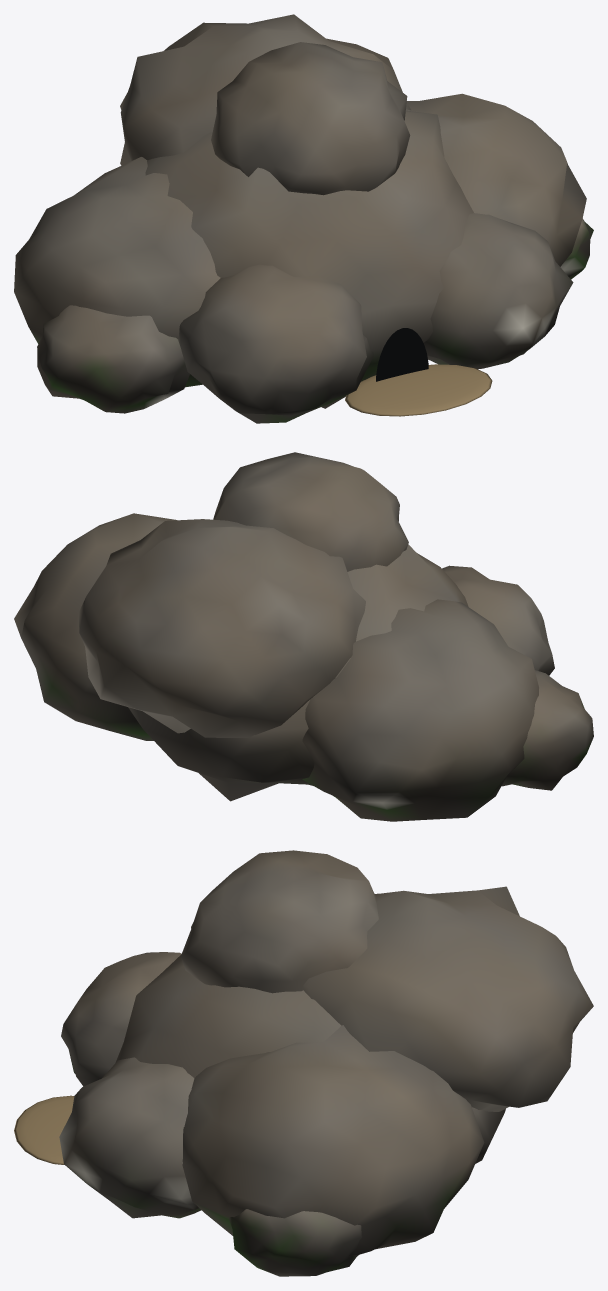
File: SeaCave.glb
3 renders of one model, top to bottom at view 1: azimuth 30°, elevation 25°; view 2: azimuth 150°, elevation 25°; view 3: azimuth 270°, elevation 25°, orthographic. The views are drawn at different scales.
Parts seen in each view (by area): view 1: Rock, WetSand, CaveMouth; view 2: Rock; view 3: Rock, WetSand.
Part boxes in pixels (left/top/right/bottom): Rock: left=14, top=14, right=593, bottom=423; WetSand: left=345, top=364, right=492, bottom=416; CaveMouth: left=376, top=328, right=428, bottom=381; Rock: left=14, top=452, right=593, bottom=821; Rock: left=59, top=850, right=593, bottom=1276; WetSand: left=14, top=1095, right=74, bottom=1164.
Size of the model in its own units: 6.49 by 3.53 by 5.6.
